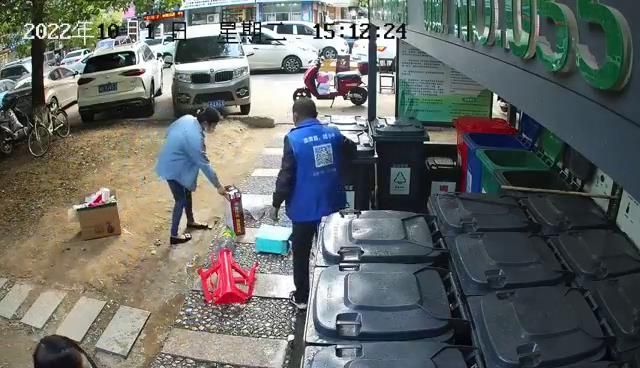suliaozhipin: (197, 248, 259, 308)
worker: (271, 97, 357, 312), (153, 104, 225, 245)
zhizhipin: (66, 187, 123, 240), (255, 220, 292, 257), (223, 184, 247, 236)
